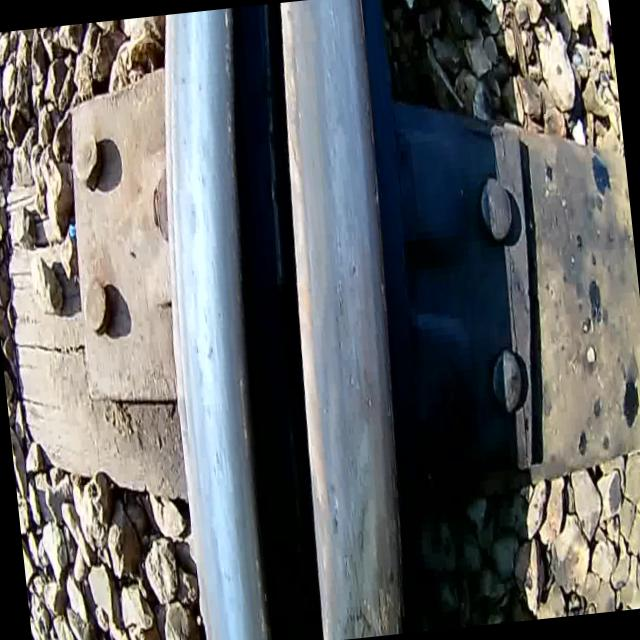Flakings: (185, 7, 303, 640)
Spallings: (360, 568, 410, 637)
Squats: (322, 499, 380, 640)
